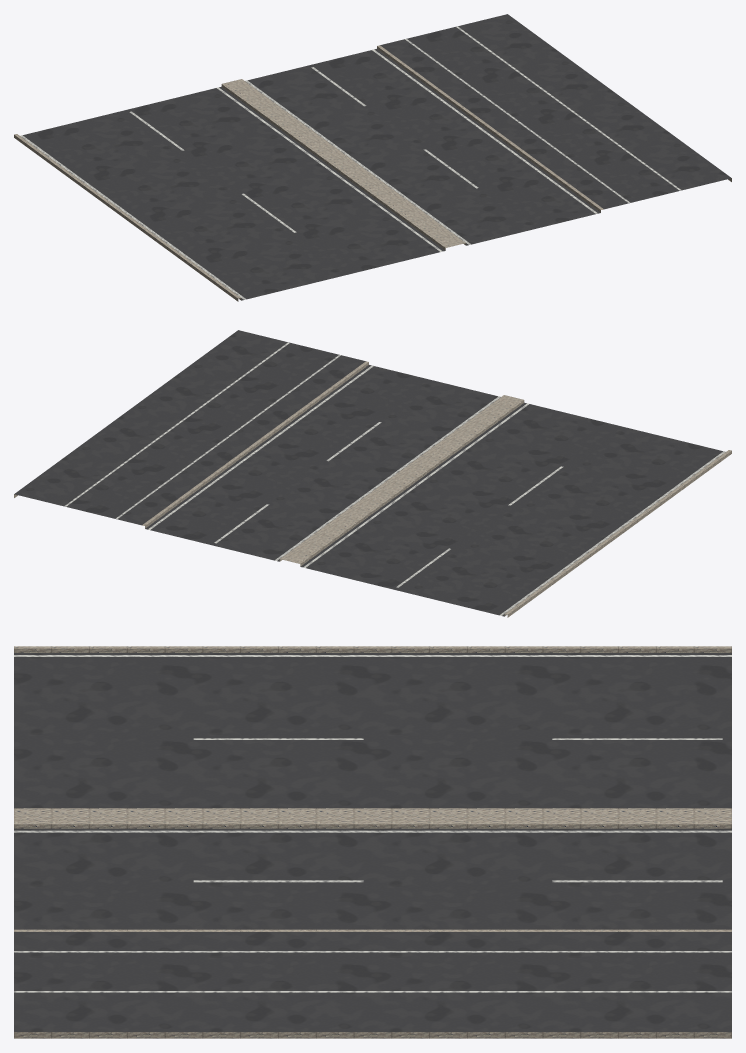
Rendered from SM_Viale_Italia_Strada_v2_LOD1.fbx.
3 renders of one model, top to bottom at view 1: azimuth 30°, elevation 25°; view 2: azimuth 150°, elevation 25°; view 3: azimuth 270°, elevation 25°, orthographic. The views are drawn at different scales.
Visible parts, largest first — view 1: SM_Viale_Italia_Strada_v2_LOD1; view 2: SM_Viale_Italia_Strada_v2_LOD1; view 3: SM_Viale_Italia_Strada_v2_LOD1.
Boxes of the visible parts, bbox=[...] form: SM_Viale_Italia_Strada_v2_LOD1: bbox=[14, 14, 731, 301]; SM_Viale_Italia_Strada_v2_LOD1: bbox=[14, 330, 731, 617]; SM_Viale_Italia_Strada_v2_LOD1: bbox=[14, 646, 731, 1038].
Bounding box in the file's own units: 2415 × 1900 × 20.5.
Materials: 3 (3 with a texture image).
